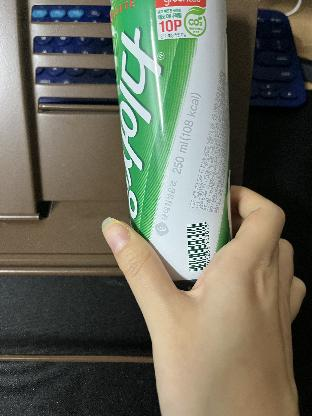Can: (108, 0, 234, 282)
